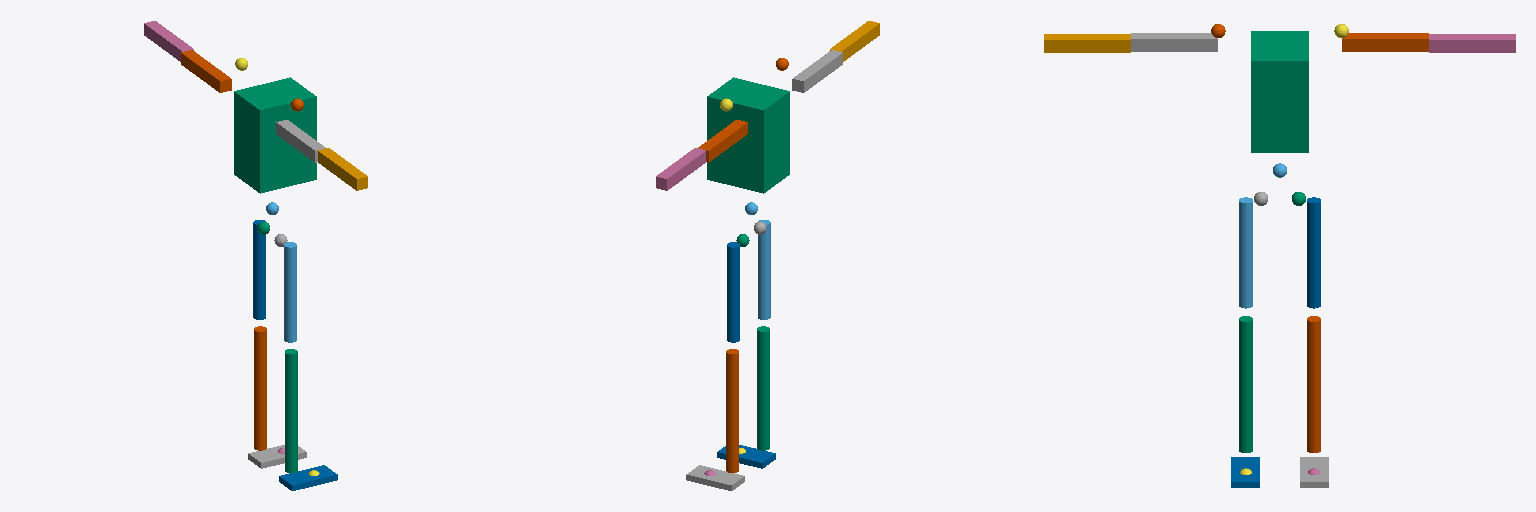
URDF robot description (robot):
<?xml version="1.0" encoding="utf-8"?>


<robot name="robot">
  <mujoco>
    <compiler discardvisual="false" discardcollision="false" meshdir="meshes"/>
  </mujoco>
  <link name="world"></link>
  <joint name="floating_base_joint" type="floating">
    <parent link="world"/>
    <child link="base_link"/>
  </joint>

  <link name="base_link">
    <visual><origin xyz="0 0 0" rpy="0 0 0" /><geometry><sphere radius="0.01" /></geometry></visual>
    <collision><origin xyz="0 0 0" rpy="0 0 0" /><geometry><sphere radius="0.01" /></geometry></collision>
    <inertial><origin xyz="0 0 0" rpy="0 0 0" /><mass value="1" /><inertia ixx="0.4" ixy="0" ixz="0" iyy="0.4" iyz="0" izz="0.4" /></inertial>
  </link>

  <!-- ========= LEFT LEG ========= -->
  <joint name="left_hip_pitch_joint" type="revolute">
    <parent link="base_link" />
    <child link="left_hip_pitch_link" />
    <origin xyz="0 0.026 -0.043" rpy="0 0 0" />
    <axis xyz="0 1 0"/>
    <limit effort="1000.0" lower="-2" upper="2" velocity="0.5"/>
  </joint>
  <link name="left_hip_pitch_link">
    <visual><origin xyz="0 0 0" rpy="0 0 0" /><geometry><sphere radius="0.01" /></geometry></visual>
    <collision><origin xyz="0 0 0" rpy="0 0 0" /><geometry><sphere radius="0.01" /></geometry></collision>
    <inertial><origin xyz="0 0 0" rpy="0 0 0" /><mass value="1" /><inertia ixx="0.4" ixy="0" ixz="0" iyy="0.4" iyz="0" izz="0.4" /></inertial>
  </link>

  <joint name="left_hip_roll_joint" type="revolute">
    <parent link="left_hip_pitch_link" />
    <child link="left_hip_roll_link" />
    <origin xyz="0 0 0" rpy="0 0 0" />
    <axis xyz="1 0 0"/>
    <limit effort="1000.0" lower="-1" upper="1" velocity="0.5"/>
  </joint>
  <link name="left_hip_roll_link">
    <visual><origin xyz="0 0 0" rpy="0 0 0" /><geometry><sphere radius="0.01" /></geometry></visual>
    <collision><origin xyz="0 0 0" rpy="0 0 0" /><geometry><sphere radius="0.01" /></geometry></collision>
    <inertial><origin xyz="0 0 0" rpy="0 0 0" /><mass value="1" /><inertia ixx="0.4" ixy="0" ixz="0" iyy="0.4" iyz="0" izz="0.4" /></inertial>
  </link>

  <joint name="left_hip_yaw_joint" type="revolute">
    <parent link="left_hip_roll_link" />
    <child link="left_hip_yaw_link" />
    <origin xyz="0 0 0" rpy="0 0 0" />
    <axis xyz="0 0 1"/>
    <limit effort="1000.0" lower="-2" upper="2" velocity="0.5"/>
  </joint>
  <link name="left_hip_yaw_link">
    <visual><origin xyz="0.005 0.021 -0.08" rpy="0 0 0" /><geometry><cylinder radius="0.01" length="0.16" /></geometry></visual>
    <collision><origin xyz="0.005 0.021 -0.08" rpy="0 0 0" /><geometry><sphere radius="0.01" /></geometry></collision>
    <inertial><origin xyz="0.005 0.021 -0.08" rpy="0 0 0" /><mass value="1" /><inertia ixx="0.4" ixy="0" ixz="0" iyy="0.4" iyz="0" izz="0.4" /></inertial>
  </link>

  <joint name="left_knee_pitch_joint" type="revolute">
    <parent link="left_hip_yaw_link" />
    <child link="left_knee_pitch_link" />
    <origin xyz="0.006 0.021 -0.18" rpy="0 0 0" />
    <axis xyz="0 1 0"/>
    <limit effort="1000.0" lower="-2" upper="2" velocity="0.5"/>
  </joint>
  <link name="left_knee_pitch_link">
    <visual><origin xyz="0 0 -0.1" rpy="0 0 0" /><geometry><cylinder radius="0.01" length="0.2" /></geometry></visual>
    <collision><origin xyz="0 0 -0.1" rpy="0 0 0" /><geometry><sphere radius="0.01" /></geometry></collision>
    <inertial><origin xyz="0 0 -0.1" rpy="0 0 0" /><mass value="1" /><inertia ixx="0.4" ixy="0" ixz="0" iyy="0.4" iyz="0" izz="0.4" /></inertial>
  </link>

  <joint name="left_ankle_pitch_joint" type="revolute">
    <parent link="left_knee_pitch_link" />
    <child link="left_ankle_pitch_link" />
    <origin xyz="0.04 0 -0.22" rpy="0 0 0" />
    <axis xyz="0 1 0"/>
    <limit effort="1000.0" lower="-2" upper="2" velocity="0.5"/>
  </joint>
  <link name="left_ankle_pitch_link">
    <visual><origin xyz="0 0 0" rpy="0 0 0" /><geometry><sphere radius="0.01" /></geometry></visual>
    <collision><origin xyz="0 0 0" rpy="0 0 0" /><geometry><sphere radius="0.01" /></geometry></collision>
    <inertial><origin xyz="0 0 0" rpy="0 0 0" /><mass value="1" /><inertia ixx="0.4" ixy="0" ixz="0" iyy="0.4" iyz="0" izz="0.4" /></inertial>
  </link>

  <joint name="left_ankle_roll_joint" type="revolute">
    <parent link="left_ankle_pitch_link" />
    <child link="left_ankle_roll_link" />
    <origin xyz="0 0 0" rpy="0 0 0" />
    <axis xyz="1 0 0"/>
    <limit effort="1000.0" lower="-2" upper="2" velocity="0.5"/>
  </joint>
  <link name="left_ankle_roll_link">
    <visual><origin xyz="-0.01 0 0" rpy="0 0 0" /><geometry><box size="0.08 0.04 0.01" /></geometry></visual>
    <collision><origin xyz="-0.01 0 0" rpy="0 0 0" /><geometry><sphere radius="0.01" /></geometry></collision>
    <inertial><origin xyz="-0.01 0 0" rpy="0 0 0" /><mass value="1" /><inertia ixx="0.4" ixy="0" ixz="0" iyy="0.4" iyz="0" izz="0.4" /></inertial>
  </link>

  <!-- ========= WAIST / TORSO ========= -->
  <joint name="waist_yaw_joint" type="revolute">
    <parent link="base_link" />
    <child link="waist_yaw_link" />
    <origin xyz="0.005 0 0.1471" rpy="0 0 0" />
    <axis xyz="0 0 1"/>
    <limit effort="1000.0" lower="-2" upper="2" velocity="0.5"/>
  </joint>
  <link name="waist_yaw_link">
    <visual><origin xyz="0 0 0" rpy="0 0 0" /><geometry><sphere radius="0.01" /></geometry></visual>
    <collision><origin xyz="0 0 0" rpy="0 0 0" /><geometry><sphere radius="0.01" /></geometry></collision>
    <inertial><origin xyz="0 0 0" rpy="0 0 0" /><mass value="1" /><inertia ixx="0.4" ixy="0" ixz="0" iyy="0.4" iyz="0" izz="0.4" /></inertial>
  </link>

  <joint name="waist_roll_joint" type="revolute">
    <parent link="waist_yaw_link" />
    <child link="waist_roll_link" />
    <origin xyz="0 0 0" rpy="0 0 0" />
    <axis xyz="1 0 0"/>
    <limit effort="1000.0" lower="-2" upper="2" velocity="0.5"/>
  </joint>
  <link name="waist_roll_link">
    <visual><origin xyz="0 0 0" rpy="0 0 0" /><geometry><sphere radius="0.01" /></geometry></visual>
    <collision><origin xyz="0 0 0" rpy="0 0 0" /><geometry><sphere radius="0.01" /></geometry></collision>
    <inertial><origin xyz="0 0 0" rpy="0 0 0" /><mass value="1" /><inertia ixx="0.4" ixy="0" ixz="0" iyy="0.4" iyz="0" izz="0.4" /></inertial>
  </link>

  <joint name="waist_pitch_joint" type="revolute">
    <parent link="waist_roll_link" />
    <child link="waist_pitch_link" />
    <origin xyz="0 0 0" rpy="0 0 0" />
    <axis xyz="0 1 0"/>
    <limit effort="1000.0" lower="-2" upper="2" velocity="0.5"/>
  </joint>
  <link name="waist_pitch_link">
    <visual><origin xyz="0 0 -0.025" rpy="0 0 0" /><geometry><box size="0.1 0.08 0.14" /></geometry></visual>
    <collision><origin xyz="0 0 -0.025" rpy="0 0 0" /><geometry><sphere radius="0.01" /></geometry></collision>
    <inertial><origin xyz="0 0 -0.025" rpy="0 0 0" /><mass value="1" /><inertia ixx="0.4" ixy="0" ixz="0" iyy="0.4" iyz="0" izz="0.4" /></inertial>
  </link>

  <!-- ========= LEFT ARM ========= -->
  <joint name="left_shoulder_pitch_joint" type="revolute">
    <parent link="waist_pitch_link" />
    <child link="left_shoulder_pitch_link" />
    <origin xyz="-0.01 0.085 0.063" rpy="0 0 0" />
    <axis xyz="1 0 0"/>
    <limit effort="1000.0" lower="-2" upper="2" velocity="0.5"/>
  </joint>
  <link name="left_shoulder_pitch_link">
    <visual><origin xyz="0 0 0" rpy="0 0 0" /><geometry><sphere radius="0.01" /></geometry></visual>
    <collision><origin xyz="0 0 0" rpy="0 0 0" /><geometry><sphere radius="0.01" /></geometry></collision>
    <inertial><origin xyz="0 0 0" rpy="0 0 0" /><mass value="1" /><inertia ixx="0.4" ixy="0" ixz="0" iyy="0.4" iyz="0" izz="0.4" /></inertial>
  </link>

  <joint name="left_shoulder_roll_joint" type="revolute">
    <parent link="left_shoulder_pitch_link" />
    <child link="left_shoulder_roll_link" />
    <origin xyz="0 0 0" rpy="0 0 0" />
    <axis xyz="0 1 0"/>
    <limit effort="1000.0" lower="-2" upper="2" velocity="0.5"/>
  </joint>
  <link name="left_shoulder_roll_link">
    <visual><origin xyz="0 0 0" rpy="0 0 0" /><geometry><sphere radius="0.01" /></geometry></visual>
    <collision><origin xyz="0 0 0" rpy="0 0 0" /><geometry><sphere radius="0.01" /></geometry></collision>
    <inertial><origin xyz="0 0 0" rpy="0 0 0" /><mass value="1" /><inertia ixx="0.4" ixy="0" ixz="0" iyy="0.4" iyz="0" izz="0.4" /></inertial>
  </link>

  <joint name="left_shoulder_yaw_joint" type="revolute">
    <parent link="left_shoulder_roll_link" />
    <child link="left_shoulder_yaw_link" />
    <origin xyz="0 0 0" rpy="0 0 0" />
    <axis xyz="0 0 1"/>
    <limit effort="1000.0" lower="-2" upper="2" velocity="0.5"/>
  </joint>
  <link name="left_shoulder_yaw_link">
    <visual><origin xyz="-0.027955245865531952 0.06 -0.03" rpy="0 0 0" /><geometry><box size="0.02 0.12 0.02" /></geometry></visual>
    <collision><origin xyz="-0.027955245865531952 0.06 -0.03" rpy="0 0 0" /><geometry><sphere radius="0.01" /></geometry></collision>
    <inertial><origin xyz="-0.027955245865531952 0.06 -0.03" rpy="0 0 0" /><mass value="1" /><inertia ixx="0.4" ixy="0" ixz="0" iyy="0.4" iyz="0" izz="0.4" /></inertial>
  </link>

  <joint name="left_elbow_pitch_joint" type="revolute">
    <parent link="left_shoulder_yaw_link" />
    <child link="left_elbow_pitch_link" />
    <origin xyz="-0.024 0.12 -0.03" rpy="0 0 0" />
    <axis xyz="0 0 1"/>
    <limit effort="1000.0" lower="-2" upper="2" velocity="0.5"/>
  </joint>
  <link name="left_elbow_pitch_link">
    <visual><origin xyz="0 0.06 0" rpy="0 0 0" /><geometry><box size="0.02 0.12 0.02" /></geometry></visual>
    <collision><origin xyz="0 0.06 0" rpy="0 0 0" /><geometry><sphere radius="0.01" /></geometry></collision>
    <inertial><origin xyz="0 0.06 0" rpy="0 0 0" /><mass value="1" /><inertia ixx="0.4" ixy="0" ixz="0" iyy="0.4" iyz="0" izz="0.4" /></inertial>
  </link>

  <!-- ========= RIGHT LEG ========= -->
  <joint name="right_hip_pitch_joint" type="revolute">
    <parent link="base_link" />
    <child link="right_hip_pitch_link" />
    <origin xyz="0 -0.026 -0.043" rpy="0 0 0" />
    <axis xyz="0 1 0"/>
    <limit effort="1000.0" lower="-2" upper="2" velocity="0.5"/>
  </joint>
  <link name="right_hip_pitch_link">
    <visual><origin xyz="0 0 0" rpy="0 0 0" /><geometry><sphere radius="0.01" /></geometry></visual>
    <collision><origin xyz="0 0 0" rpy="0 0 0" /><geometry><sphere radius="0.01" /></geometry></collision>
    <inertial><origin xyz="0 0 0" rpy="0 0 0" /><mass value="1" /><inertia ixx="0.4" ixy="0" ixz="0" iyy="0.4" iyz="0" izz="0.4" /></inertial>
  </link>

  <joint name="right_hip_roll_joint" type="revolute">
    <parent link="right_hip_pitch_link" />
    <child link="right_hip_roll_link" />
    <origin xyz="0 0 0" rpy="0 0 0" />
    <axis xyz="1 0 0"/>
    <limit effort="1000.0" lower="-1" upper="1" velocity="0.5"/>
  </joint>
  <link name="right_hip_roll_link">
    <visual><origin xyz="0 0 0" rpy="0 0 0" /><geometry><sphere radius="0.01" /></geometry></visual>
    <collision><origin xyz="0 0 0" rpy="0 0 0" /><geometry><sphere radius="0.01" /></geometry></collision>
    <inertial><origin xyz="0 0 0" rpy="0 0 0" /><mass value="1" /><inertia ixx="0.4" ixy="0" ixz="0" iyy="0.4" iyz="0" izz="0.4" /></inertial>
  </link>

  <joint name="right_hip_yaw_joint" type="revolute">
    <parent link="right_hip_roll_link" />
    <child link="right_hip_yaw_link" />
    <origin xyz="0 0 0" rpy="0 0 0" />
    <axis xyz="0 0 1"/>
    <limit effort="1000.0" lower="-2" upper="2" velocity="0.5"/>
  </joint>
  <link name="right_hip_yaw_link">
    <visual><origin xyz="0.005 -0.021 -0.08" rpy="0 0 0" /><geometry><cylinder radius="0.01" length="0.16" /></geometry></visual>
    <collision><origin xyz="0.005 -0.021 -0.08" rpy="0 0 0" /><geometry><sphere radius="0.01" /></geometry></collision>
    <inertial><origin xyz="0.005 -0.021 -0.08" rpy="0 0 0" /><mass value="1" /><inertia ixx="0.4" ixy="0" ixz="0" iyy="0.4" iyz="0" izz="0.4" /></inertial>
  </link>

  <joint name="right_knee_pitch_joint" type="revolute">
    <parent link="right_hip_yaw_link" />
    <child link="right_knee_pitch_link" />
    <origin xyz="0.006 -0.021 -0.18" rpy="0 0 0" />
    <axis xyz="0 1 0"/>
    <limit effort="1000.0" lower="-2" upper="2" velocity="0.5"/>
  </joint>
  <link name="right_knee_pitch_link">
    <visual><origin xyz="0 0 -0.1" rpy="0 0 0" /><geometry><cylinder radius="0.01" length="0.2" /></geometry></visual>
    <collision><origin xyz="0 0 -0.1" rpy="0 0 0" /><geometry><sphere radius="0.01" /></geometry></collision>
    <inertial><origin xyz="0 0 -0.1" rpy="0 0 0" /><mass value="1" /><inertia ixx="0.4" ixy="0" ixz="0" iyy="0.4" iyz="0" izz="0.4" /></inertial>
  </link>

  <joint name="right_ankle_pitch_joint" type="revolute">
    <parent link="right_knee_pitch_link" />
    <child link="right_ankle_pitch_link" />
    <origin xyz="0.04 0 -0.22" rpy="0 0 0" />
    <axis xyz="0 1 0"/>
    <limit effort="1000.0" lower="-2" upper="2" velocity="0.5"/>
  </joint>
  <link name="right_ankle_pitch_link">
    <visual><origin xyz="0 0 0" rpy="0 0 0" /><geometry><sphere radius="0.01" /></geometry></visual>
    <collision><origin xyz="0 0 0" rpy="0 0 0" /><geometry><sphere radius="0.01" /></geometry></collision>
    <inertial><origin xyz="0 0 0" rpy="0 0 0" /><mass value="1" /><inertia ixx="0.4" ixy="0" ixz="0" iyy="0.4" iyz="0" izz="0.4" /></inertial>
  </link>

  <joint name="right_ankle_roll_joint" type="revolute">
    <parent link="right_ankle_pitch_link" />
    <child link="right_ankle_roll_link" />
    <origin xyz="0 0 0" rpy="0 0 0" />
    <axis xyz="1 0 0"/>
    <limit effort="1000.0" lower="-2" upper="2" velocity="0.5"/>
  </joint>
  <link name="right_ankle_roll_link">
    <visual><origin xyz="-0.01 0 0" rpy="0 0 0" /><geometry><box size="0.08 0.04 0.01" /></geometry></visual>
    <collision><origin xyz="-0.01 0 0" rpy="0 0 0" /><geometry><sphere radius="0.01" /></geometry></collision>
    <inertial><origin xyz="-0.01 0 0" rpy="0 0 0" /><mass value="1" /><inertia ixx="0.4" ixy="0" ixz="0" iyy="0.4" iyz="0" izz="0.4" /></inertial>
  </link>

  <!-- ========= RIGHT ARM ========= -->
  <joint name="right_shoulder_pitch_joint" type="revolute">
    <parent link="waist_pitch_link" />
    <child link="right_shoulder_pitch_link" />
    <origin xyz="-0.01 -0.085 0.063" rpy="0 0 0" />
    <axis xyz="1 0 0"/>
    <limit effort="1000.0" lower="-2" upper="2" velocity="0.5"/>
  </joint>
  <link name="right_shoulder_pitch_link">
    <visual><origin xyz="0 0 0" rpy="0 0 0" /><geometry><sphere radius="0.01" /></geometry></visual>
    <collision><origin xyz="0 0 0" rpy="0 0 0" /><geometry><sphere radius="0.01" /></geometry></collision>
    <inertial><origin xyz="0 0 0" rpy="0 0 0" /><mass value="1" /><inertia ixx="0.4" ixy="0" ixz="0" iyy="0.4" iyz="0" izz="0.4" /></inertial>
  </link>

  <joint name="right_shoulder_roll_joint" type="revolute">
    <parent link="right_shoulder_pitch_link" />
    <child link="right_shoulder_roll_link" />
    <origin xyz="0 0 0" rpy="0 0 0" />
    <axis xyz="0 1 0"/>
    <limit effort="1000.0" lower="-2" upper="2" velocity="0.5"/>
  </joint>
  <link name="right_shoulder_roll_link">
    <visual><origin xyz="0 0 0" rpy="0 0 0" /><geometry><sphere radius="0.01" /></geometry></visual>
    <collision><origin xyz="0 0 0" rpy="0 0 0" /><geometry><sphere radius="0.01" /></geometry></collision>
    <inertial><origin xyz="0 0 0" rpy="0 0 0" /><mass value="1" /><inertia ixx="0.4" ixy="0" ixz="0" iyy="0.4" iyz="0" izz="0.4" /></inertial>
  </link>

  <joint name="right_shoulder_yaw_joint" type="revolute">
    <parent link="right_shoulder_roll_link" />
    <child link="right_shoulder_yaw_link" />
    <origin xyz="0 0 0" rpy="0 0 0" />
    <axis xyz="0 0 1"/>
    <limit effort="1000.0" lower="-2" upper="2" velocity="0.5"/>
  </joint>
  <link name="right_shoulder_yaw_link">
    <visual><origin xyz="-0.027955245865531952 -0.06 -0.03" rpy="0 0 0" /><geometry><box size="0.02 0.12 0.02" /></geometry></visual>
    <collision><origin xyz="-0.027955245865531952 -0.06 -0.03" rpy="0 0 0" /><geometry><sphere radius="0.01" /></geometry></collision>
    <inertial><origin xyz="-0.027955245865531952 -0.06 -0.03" rpy="0 0 0" /><mass value="1" /><inertia ixx="0.4" ixy="0" ixz="0" iyy="0.4" iyz="0" izz="0.4" /></inertial>
  </link>

  <joint name="right_elbow_pitch_joint" type="revolute">
    <parent link="right_shoulder_yaw_link" />
    <child link="right_elbow_pitch_link" />
    <origin xyz="-0.024 -0.12 -0.03" rpy="0 0 0" />
    <axis xyz="0 0 1"/>
    <limit effort="1000.0" lower="-2" upper="2" velocity="0.5"/>
  </joint>
  <link name="right_elbow_pitch_link">
    <visual><origin xyz="0 -0.06 0" rpy="0 0 0" /><geometry><box size="0.02 0.12 0.02" /></geometry></visual>
    <collision><origin xyz="0 -0.06 0" rpy="0 0 0" /><geometry><sphere radius="0.01" /></geometry></collision>
    <inertial><origin xyz="0 -0.06 0" rpy="0 0 0" /><mass value="1" /><inertia ixx="0.4" ixy="0" ixz="0" iyy="0.4" iyz="0" izz="0.4" /></inertial>
  </link>

</robot>

--- What the picture shows (computed from the rendered views, not written in the file) ---
3 views of the same robot in one strip: view 1: azimuth 30°, elevation 25°; view 2: azimuth 150°, elevation 25°; view 3: azimuth 270°, elevation 25° (orthographic).
Robot: robot — 25 links, 24 joints (23 revolute, 1 floating); root link world; default pose: every joint at zero.
Links seen in each view (by area): view 1: waist_pitch_link, left_knee_pitch_link, right_knee_pitch_link, right_hip_yaw_link, left_hip_yaw_link, left_shoulder_yaw_link, right_elbow_pitch_link, right_shoulder_yaw_link, left_elbow_pitch_link, right_ankle_roll_link, left_ankle_roll_link; view 2: waist_pitch_link, right_knee_pitch_link, left_knee_pitch_link, left_hip_yaw_link, right_hip_yaw_link, right_shoulder_yaw_link, left_elbow_pitch_link, left_shoulder_yaw_link, right_elbow_pitch_link, left_ankle_roll_link, right_ankle_roll_link; view 3: waist_pitch_link, left_knee_pitch_link, right_knee_pitch_link, left_elbow_pitch_link, right_elbow_pitch_link, left_shoulder_yaw_link, right_shoulder_yaw_link, left_hip_yaw_link, right_hip_yaw_link, left_ankle_roll_link, right_ankle_roll_link.
Boxes of the visible links, box(x1,y1,x2,y2) form: waist_pitch_link: box(234, 77, 316, 193); left_knee_pitch_link: box(254, 326, 266, 450); right_knee_pitch_link: box(285, 349, 297, 472); right_hip_yaw_link: box(284, 242, 296, 342); left_hip_yaw_link: box(253, 220, 265, 319); left_shoulder_yaw_link: box(181, 50, 231, 92); right_elbow_pitch_link: box(318, 148, 367, 190); right_shoulder_yaw_link: box(276, 120, 325, 162); left_elbow_pitch_link: box(144, 21, 193, 61); right_ankle_roll_link: box(279, 465, 337, 490); left_ankle_roll_link: box(248, 445, 306, 468); waist_pitch_link: box(707, 77, 789, 193); right_knee_pitch_link: box(757, 326, 769, 450); left_knee_pitch_link: box(726, 349, 738, 472); left_hip_yaw_link: box(727, 242, 739, 342); right_hip_yaw_link: box(758, 220, 770, 319); right_shoulder_yaw_link: box(792, 50, 842, 92); left_elbow_pitch_link: box(656, 148, 705, 190); left_shoulder_yaw_link: box(698, 120, 747, 162); right_elbow_pitch_link: box(830, 21, 879, 61); left_ankle_roll_link: box(686, 465, 744, 490); right_ankle_roll_link: box(717, 445, 775, 468); waist_pitch_link: box(1251, 31, 1308, 152); left_knee_pitch_link: box(1307, 316, 1320, 452); right_knee_pitch_link: box(1239, 316, 1252, 452); left_elbow_pitch_link: box(1429, 34, 1515, 52); right_elbow_pitch_link: box(1044, 34, 1130, 52); left_shoulder_yaw_link: box(1342, 33, 1428, 51); right_shoulder_yaw_link: box(1131, 33, 1217, 51); left_hip_yaw_link: box(1307, 197, 1320, 308); right_hip_yaw_link: box(1239, 197, 1252, 308); left_ankle_roll_link: box(1300, 457, 1328, 487); right_ankle_roll_link: box(1231, 457, 1259, 487).
Bounding box of the posed robot: 0.121 × 0.65 × 0.6731 m (x, y, z).
Geometry: primitives only (box / cylinder / sphere), no mesh files.
